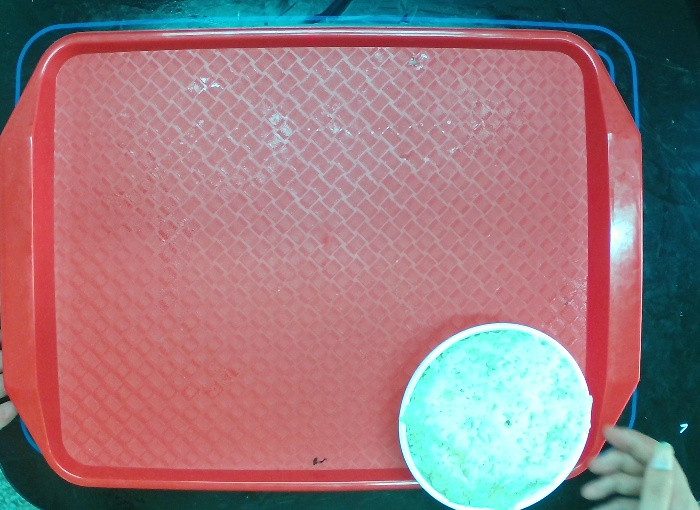YKMZ-Fan_Wan: (398, 322, 591, 510)
